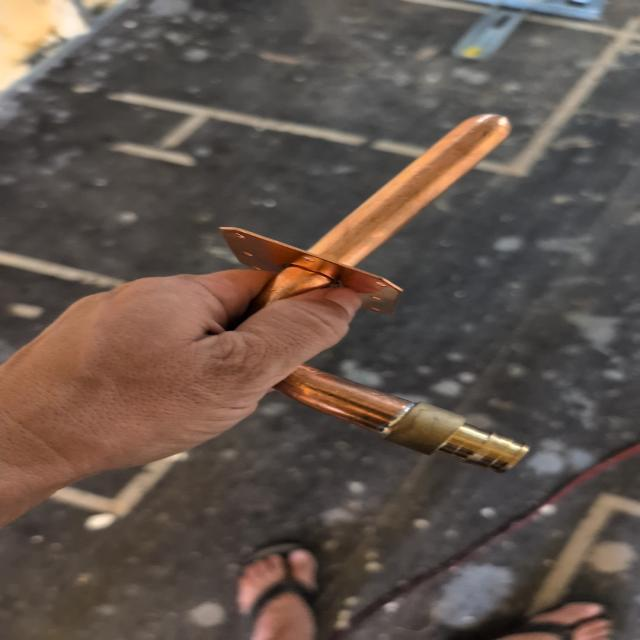wall_flange: (190, 104, 538, 475)
